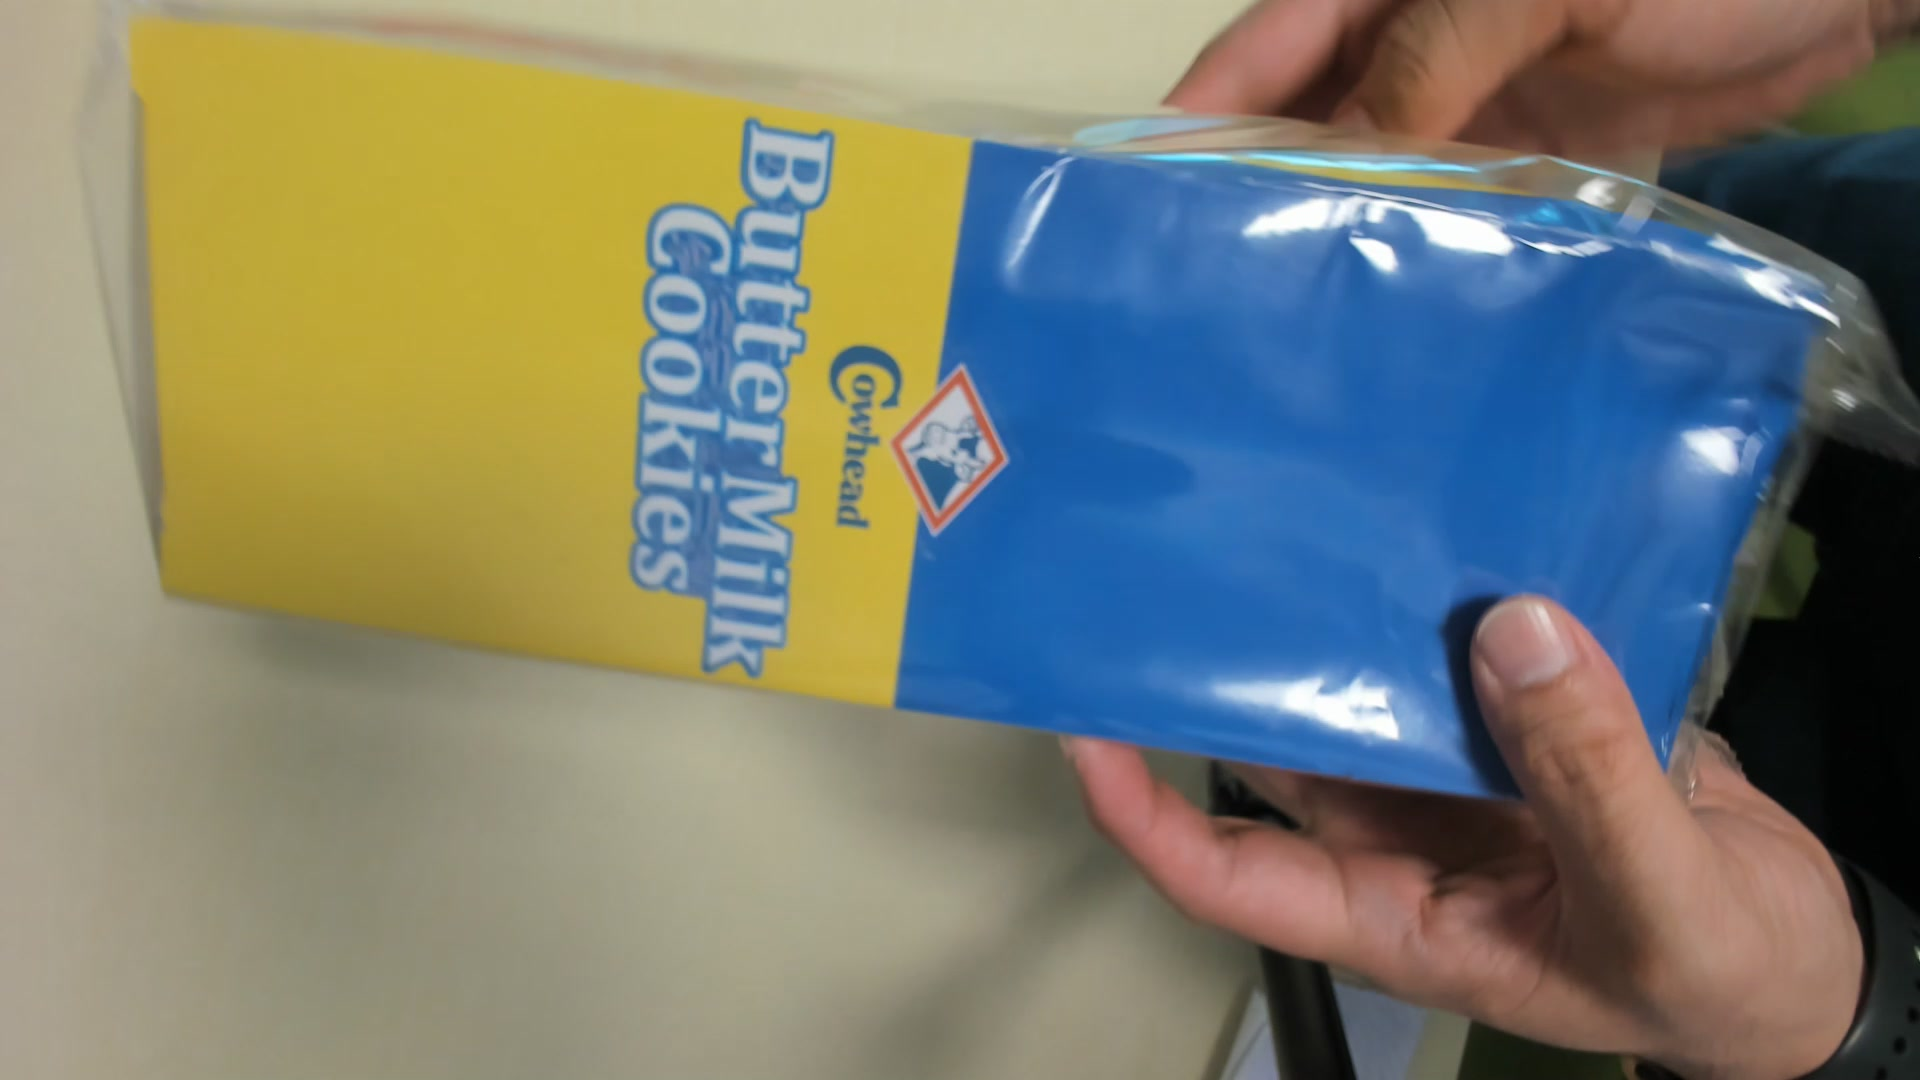SweetsChocolatesOthers_200-299g_Halal_Nonhealthy: (123, 18, 1822, 815)
